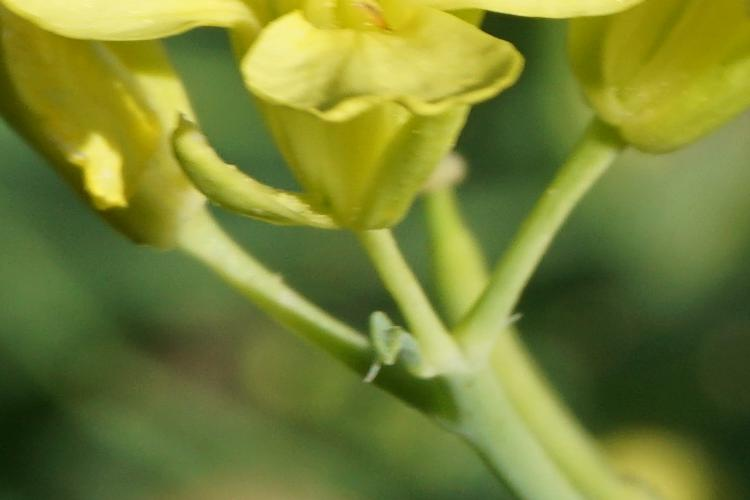yellow: (240, 18, 489, 257), (28, 12, 231, 271), (572, 8, 750, 169)
